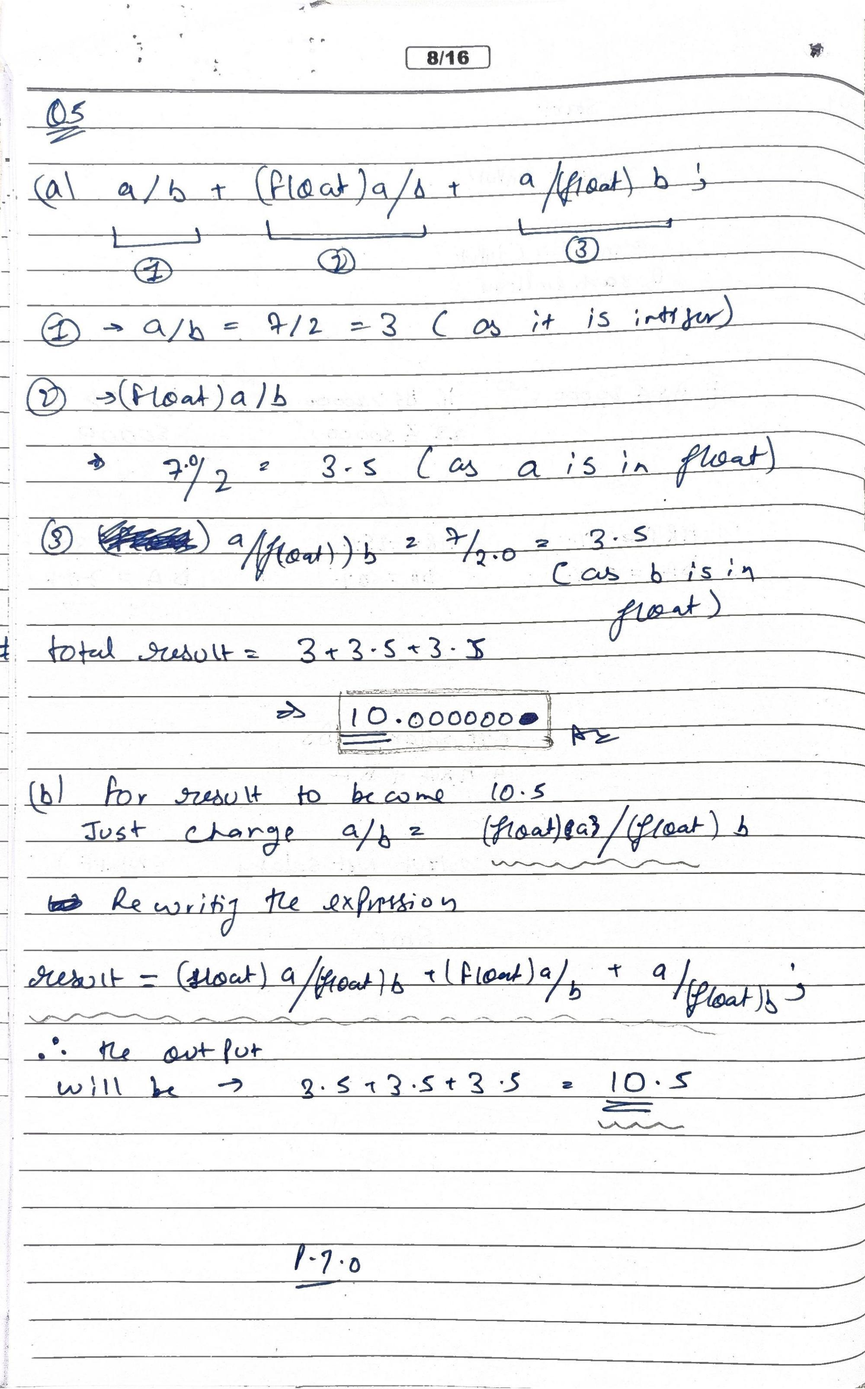cuttings: (98, 516, 212, 559), (48, 895, 83, 914), (587, 813, 602, 839), (563, 817, 576, 842), (519, 711, 539, 723)
